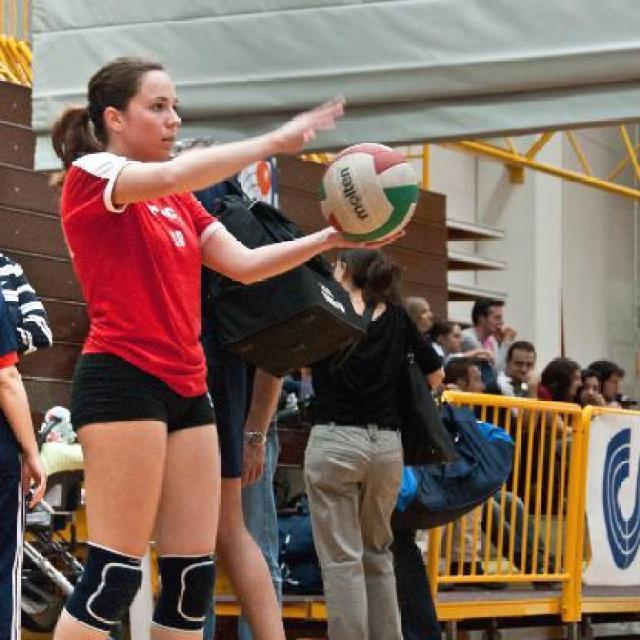volleyball: (319, 144, 418, 243)
